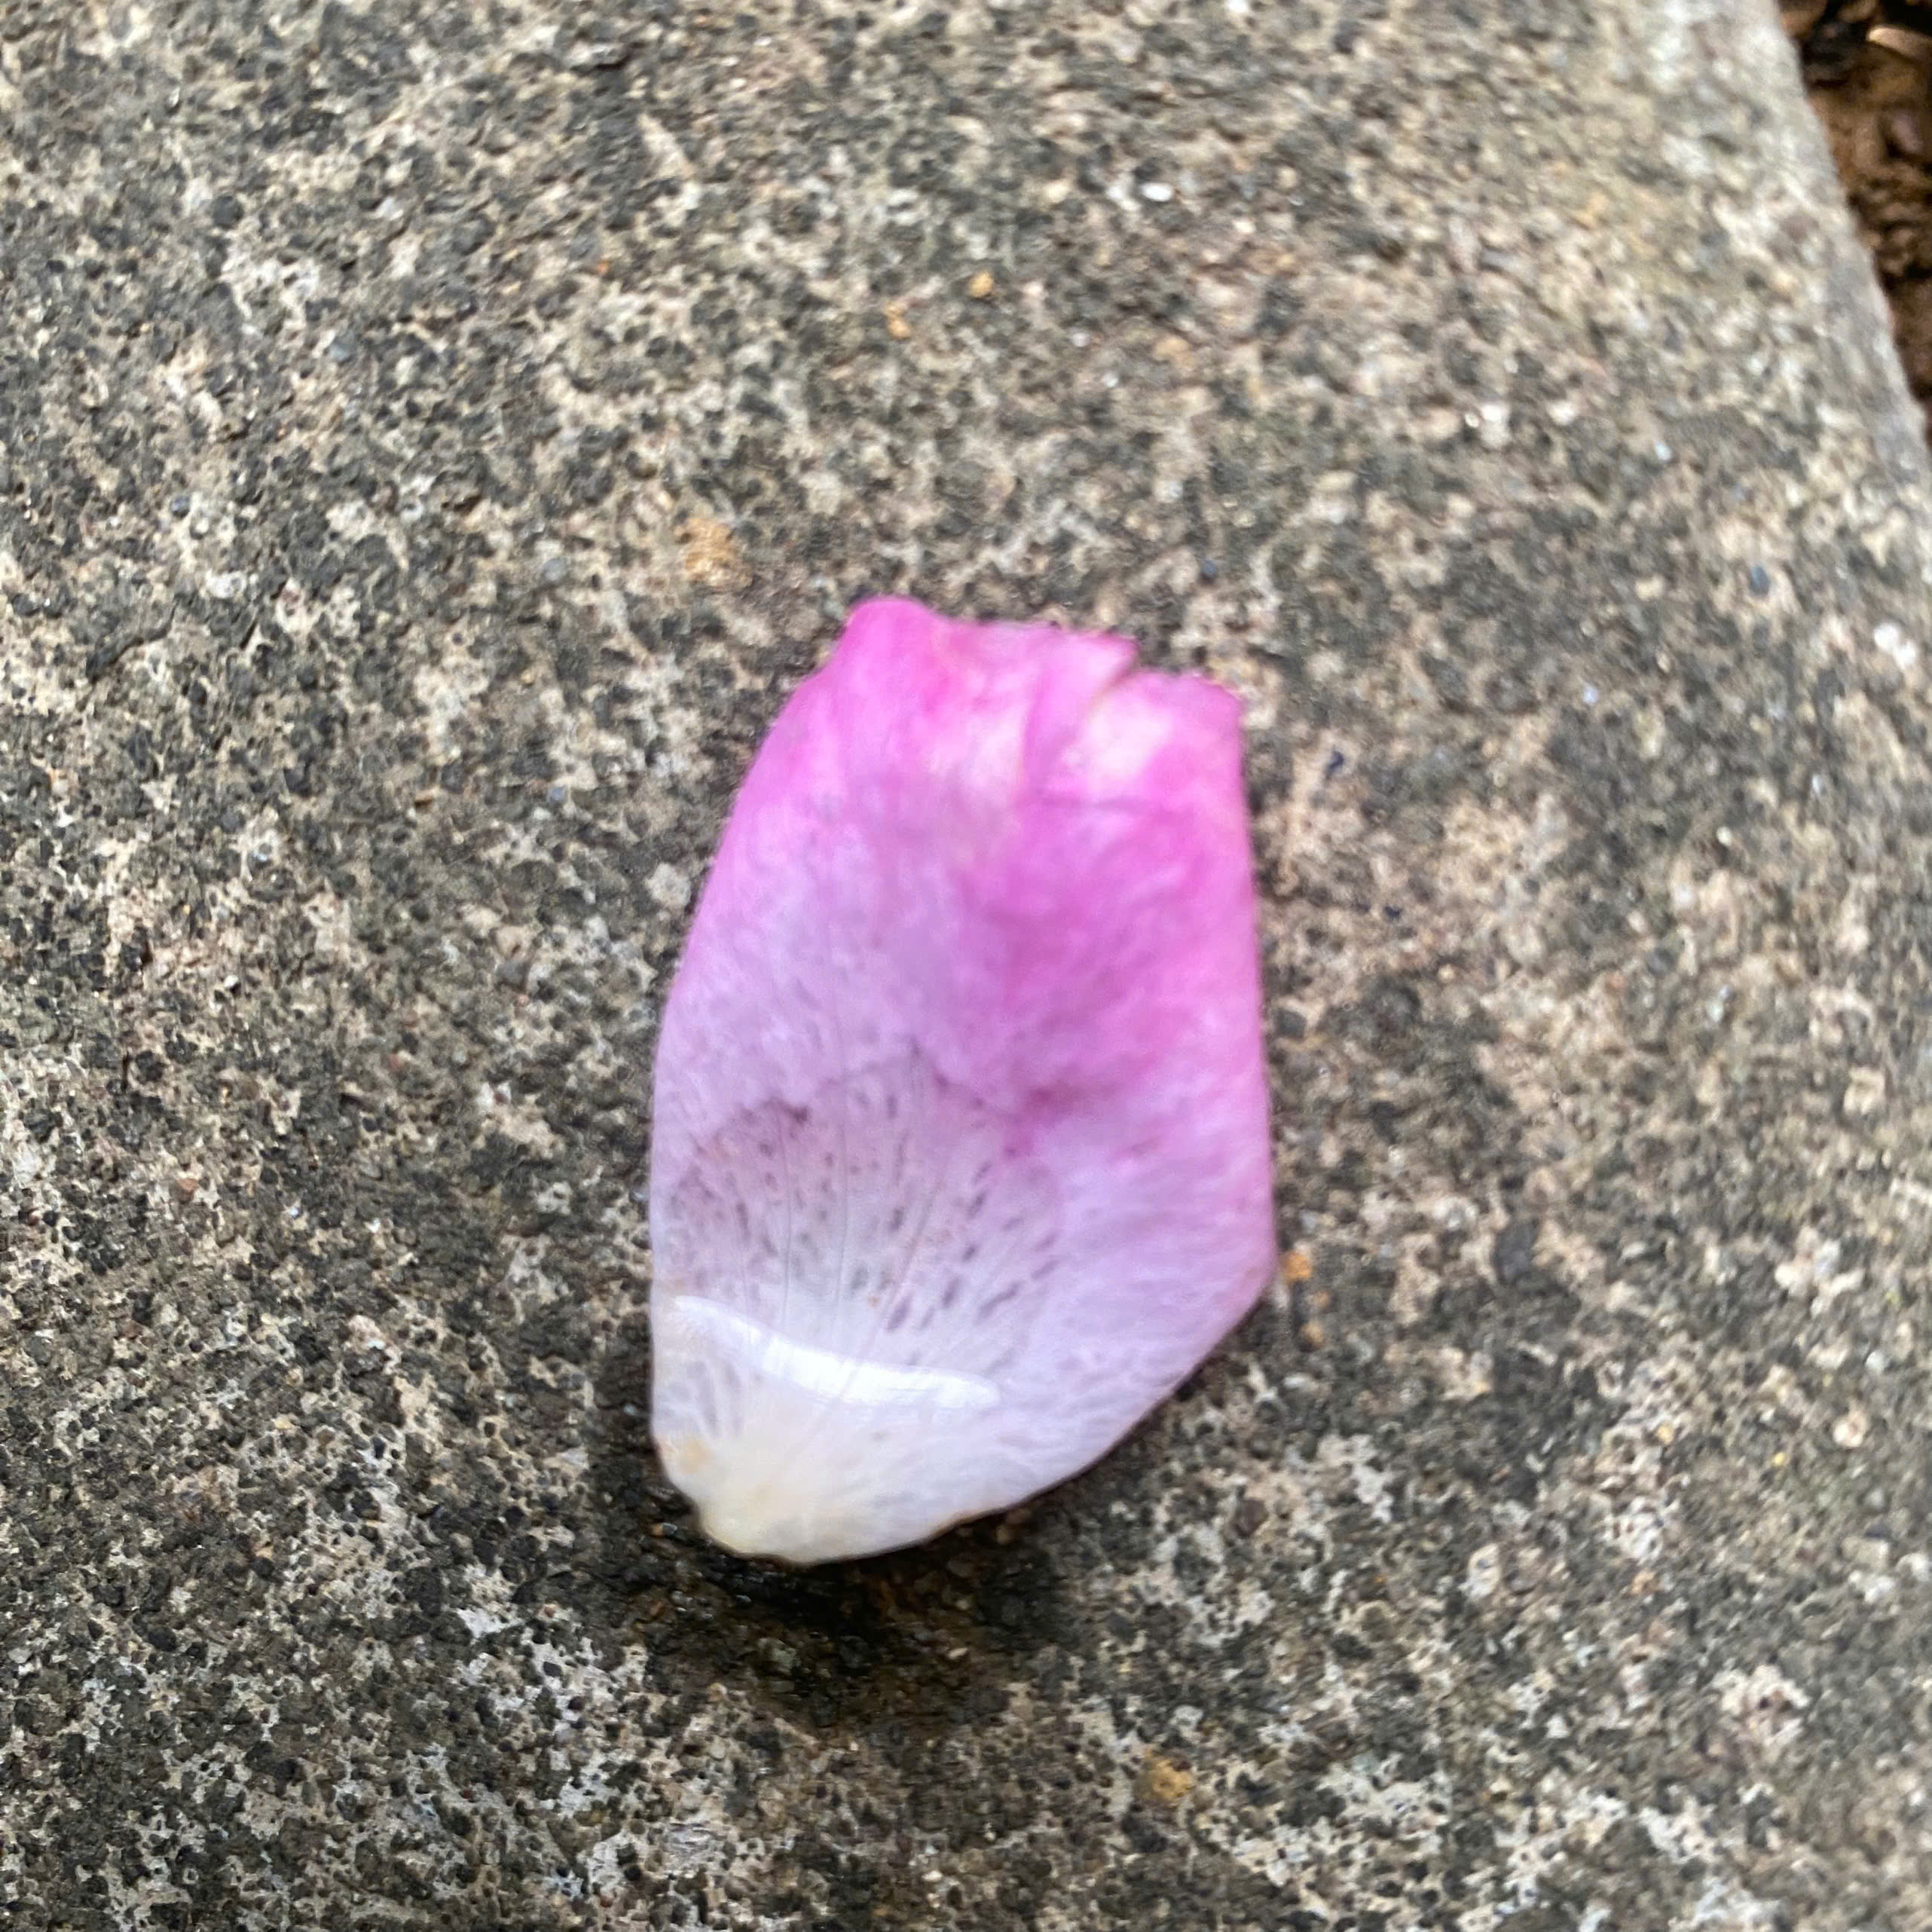hoa_hong_phan: (561, 545, 1396, 1608)
